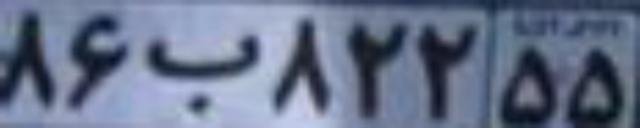2: (347, 20, 409, 117), (417, 23, 477, 120)
5: (565, 48, 626, 126), (498, 47, 554, 125)
6: (61, 15, 128, 110)
8: (269, 18, 330, 116), (0, 9, 56, 110)
be: (146, 31, 259, 115)
